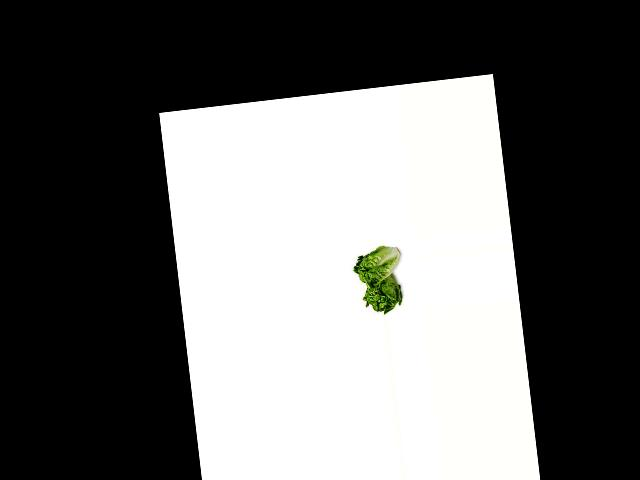lettuce: (359, 269, 409, 316)
